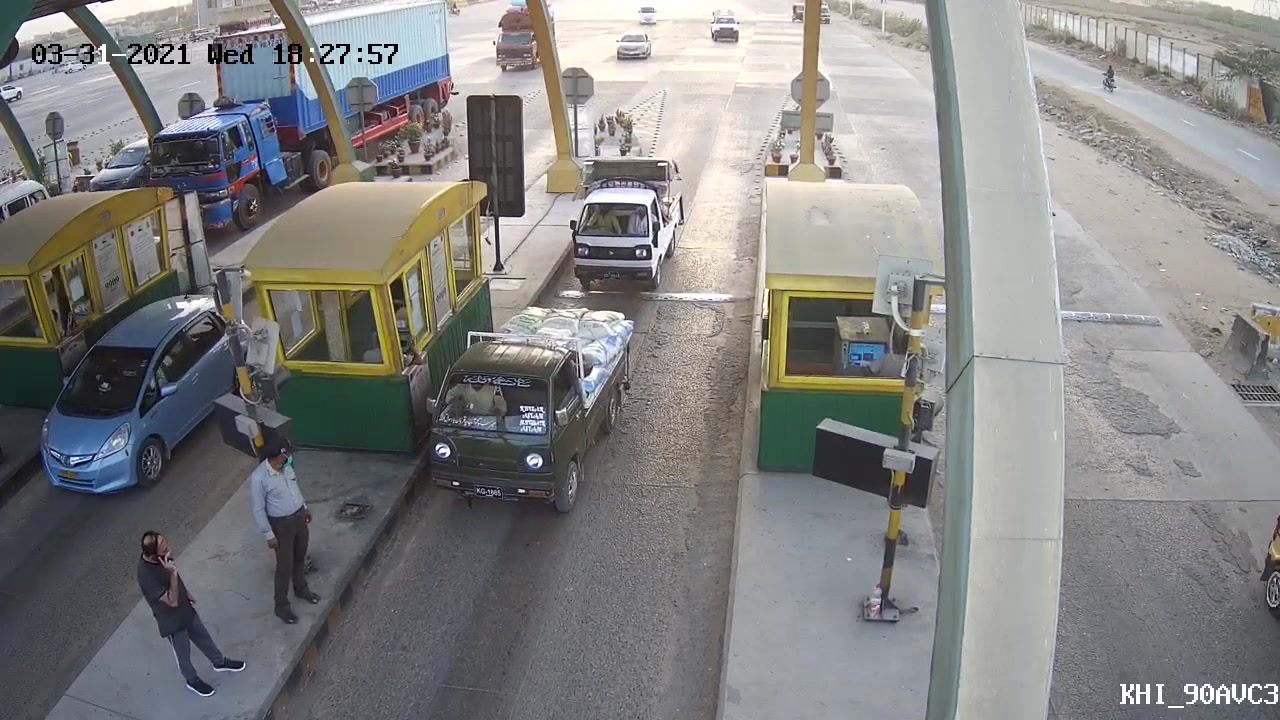F1: (415, 300, 631, 517), (561, 154, 697, 295)
